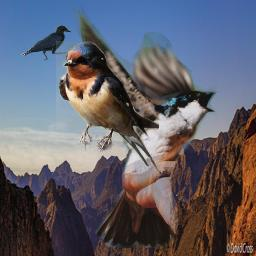Crow: (21, 25, 71, 61)
Swallow: (71, 5, 218, 248), (56, 41, 159, 171)
